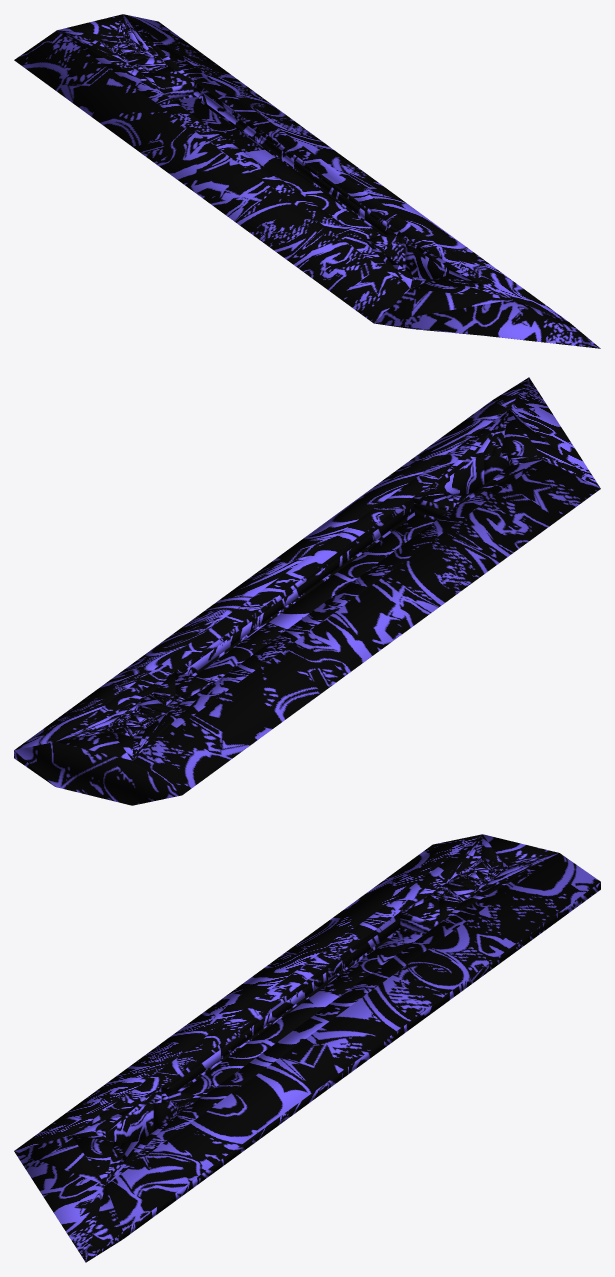
Rendered from DEFAULTClassicKnifeBlade.obj.
The picture shows the model from 3 angles, top to bottom: view 1: azimuth 30°, elevation 25°; view 2: azimuth 150°, elevation 25°; view 3: azimuth 330°, elevation 25°; orthographic projection. The views are drawn at different scales.
Visible parts, largest first — view 1: DEFAULT_CK_Blade; view 2: DEFAULT_CK_Blade; view 3: DEFAULT_CK_Blade.
Part boxes in pixels (x1,y1,x2,y2): DEFAULT_CK_Blade: (14,14,600,348); DEFAULT_CK_Blade: (14,377,600,805); DEFAULT_CK_Blade: (14,834,600,1262).
Bounding box in the file's own units: 0.1009 × 0.0259 × 0.5349.
